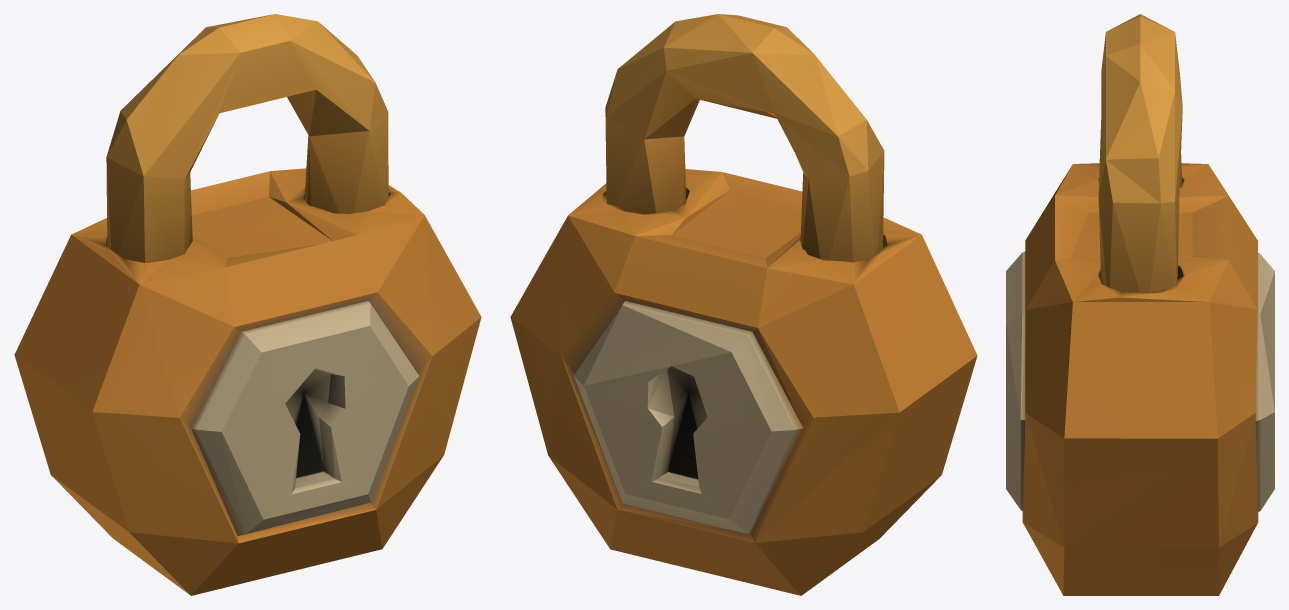
File: lock_02_lod1.glb
3 renders of one model, left to right at view 1: azimuth 30°, elevation 25°; view 2: azimuth 150°, elevation 25°; view 3: azimuth 270°, elevation 25°, orthographic.
Visible parts, largest first — view 1: geometry_0; view 2: geometry_0; view 3: geometry_0.
Boxes of the visible parts, <box> form: geometry_0: <box>14,14,481,595</box>; geometry_0: <box>510,14,977,595</box>; geometry_0: <box>1006,14,1274,595</box>.
Bounding box in the file's own units: 0.7407 × 0.9502 × 0.4458.
